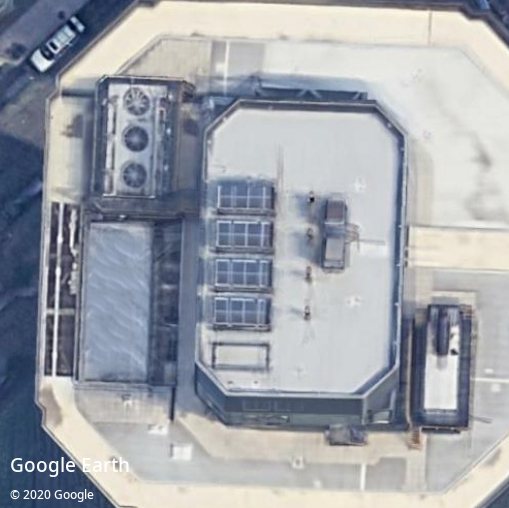Vent: (123, 125, 149, 153), (124, 90, 150, 117), (122, 163, 148, 189)
